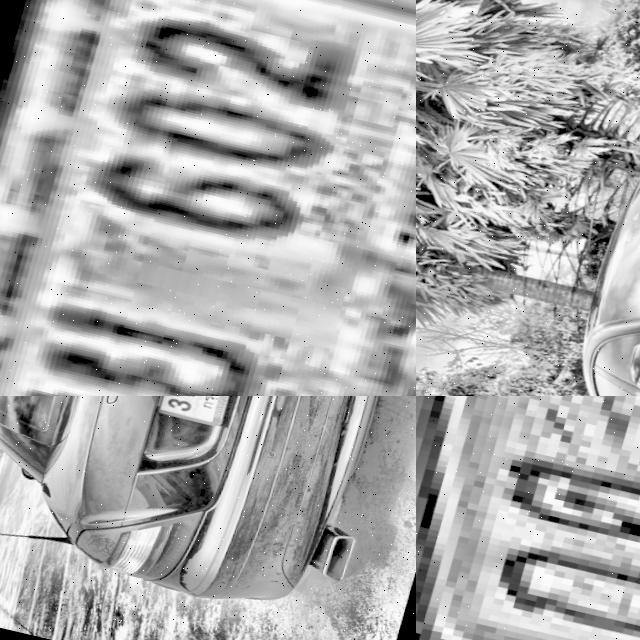license-plate: (0, 0, 416, 396), (416, 396, 640, 640), (156, 396, 261, 431)
